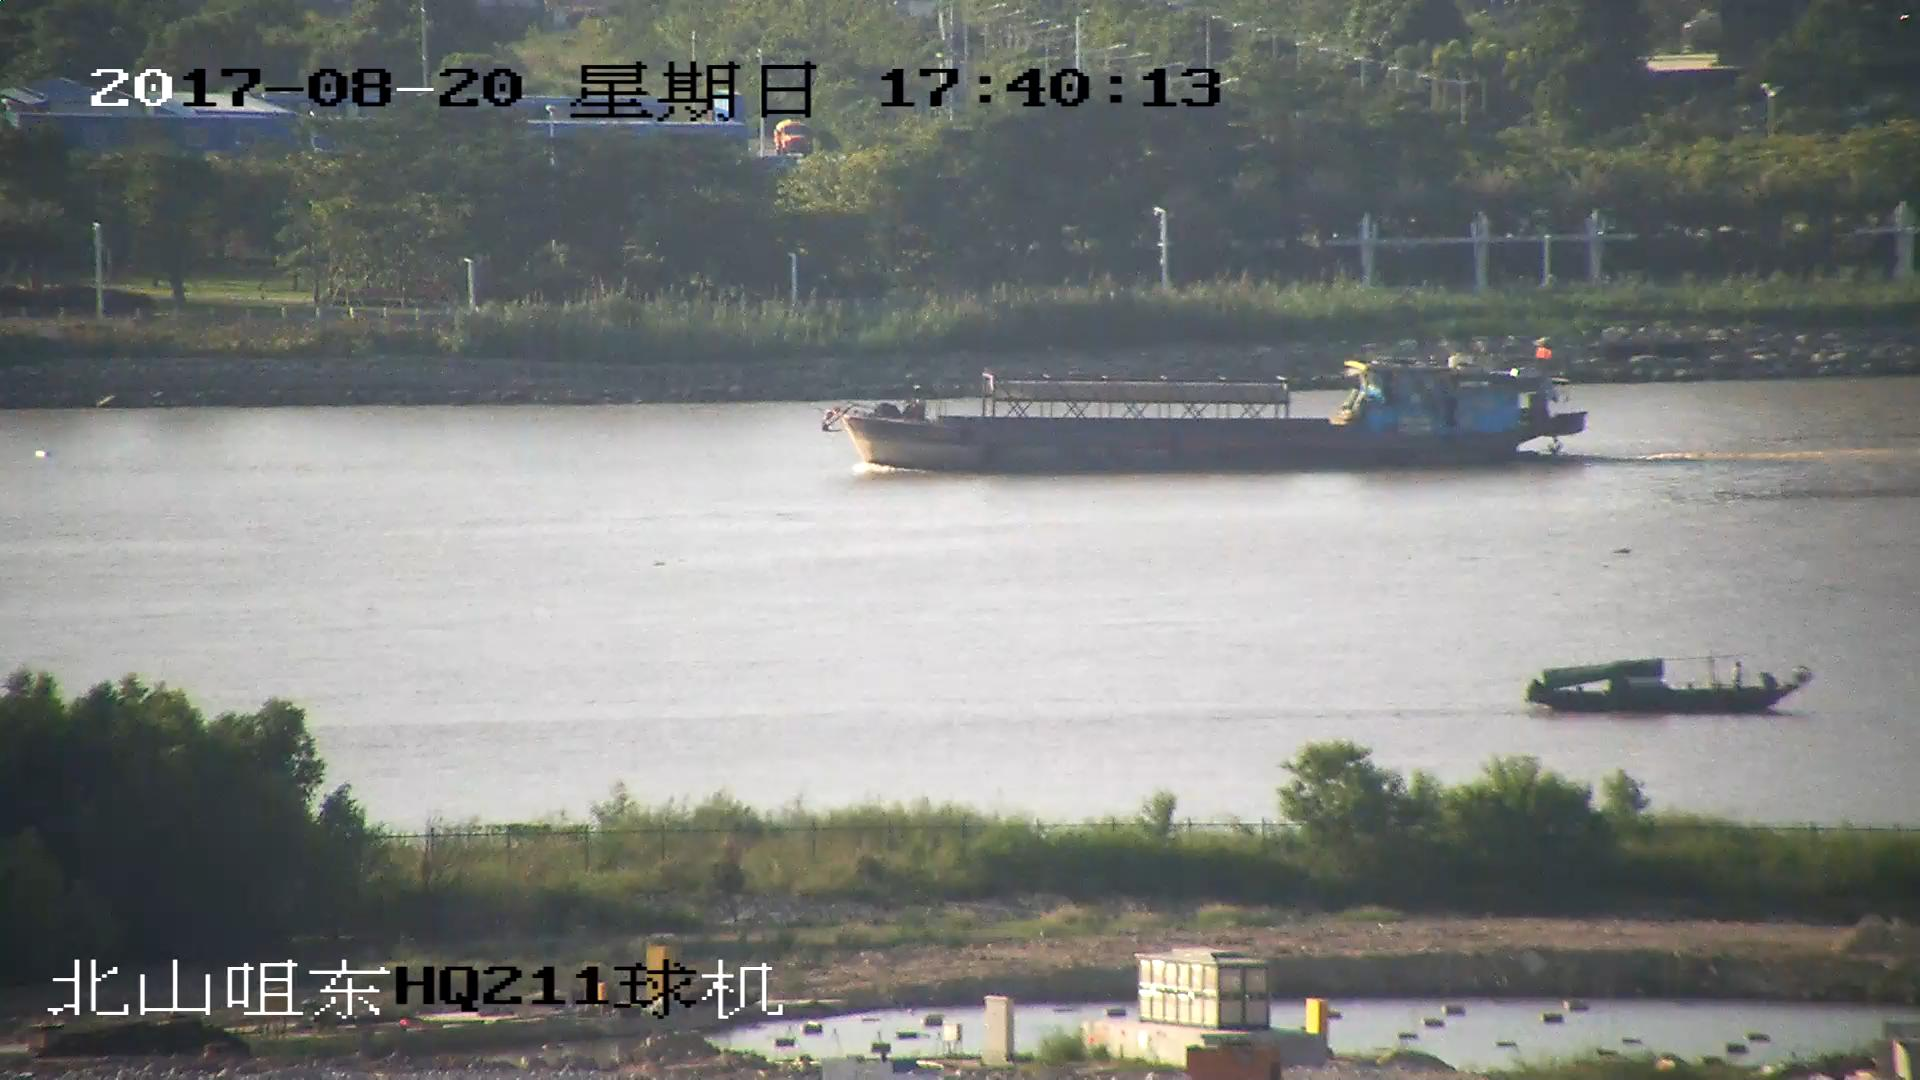fishing boat: (821, 349, 1585, 475), (1528, 648, 1808, 718)
